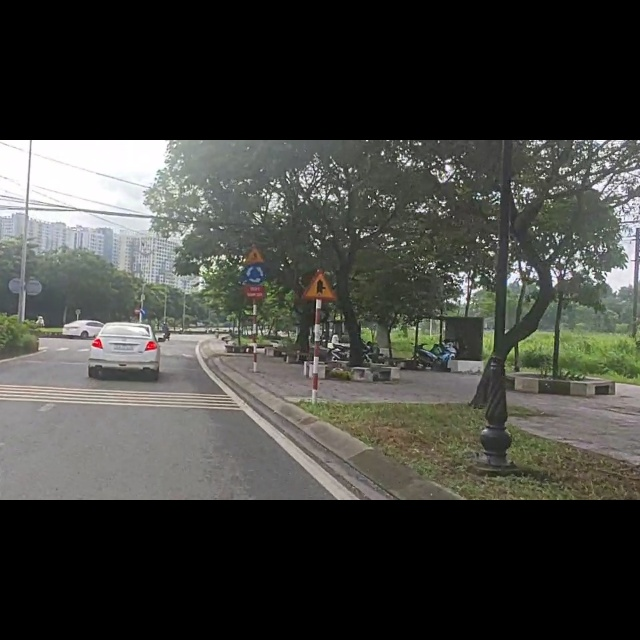bien_hieu_lenh: (303, 231, 339, 288), (245, 184, 266, 217), (245, 223, 266, 256), (133, 297, 140, 311), (141, 299, 147, 312)
